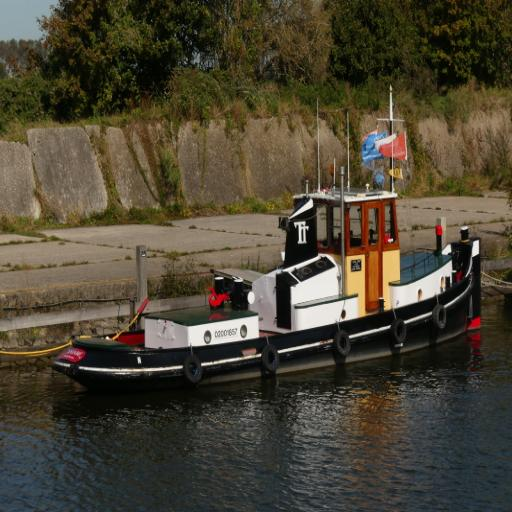tugboat: (47, 173, 487, 388)
